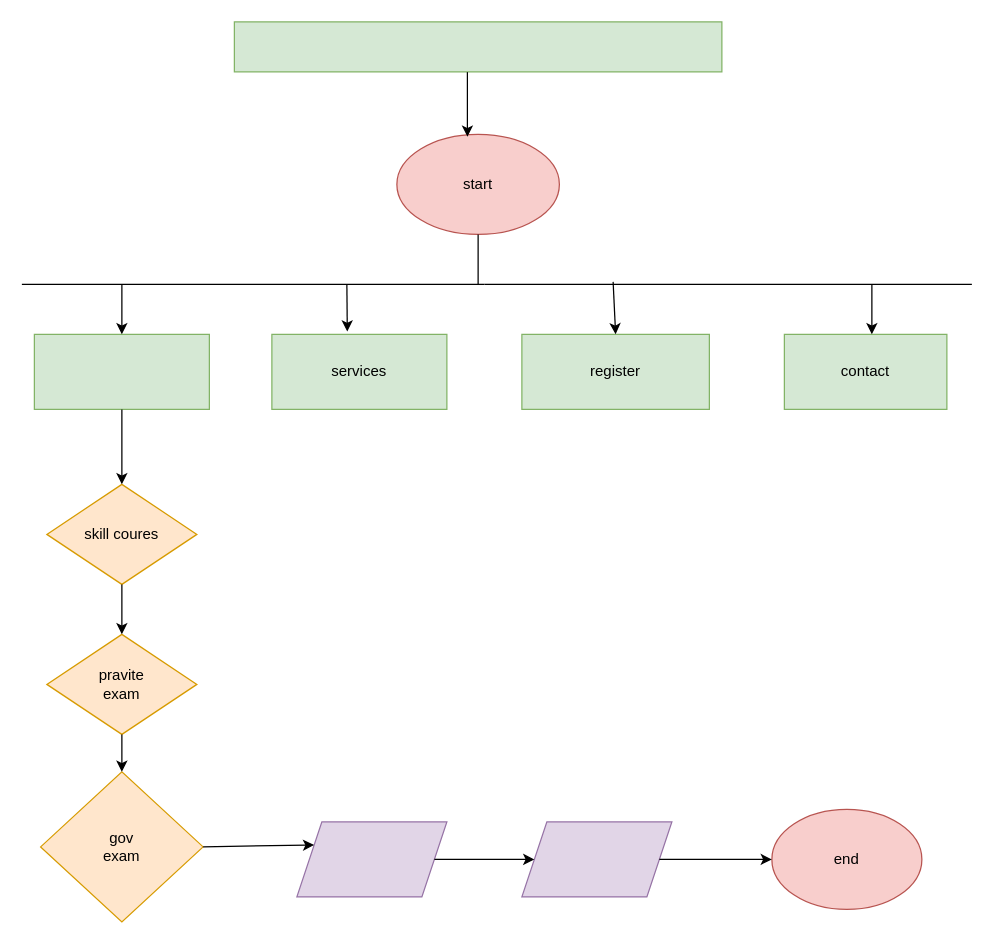
This 995x944 diagram has some shape labels left out. Each missing label, with the centre of its shape:
"home" belongs at point 121,371.
"loge in" belongs at point 371,859.
"student services portal" belongs at point 477,46.
"submit" belongs at point 596,859.
